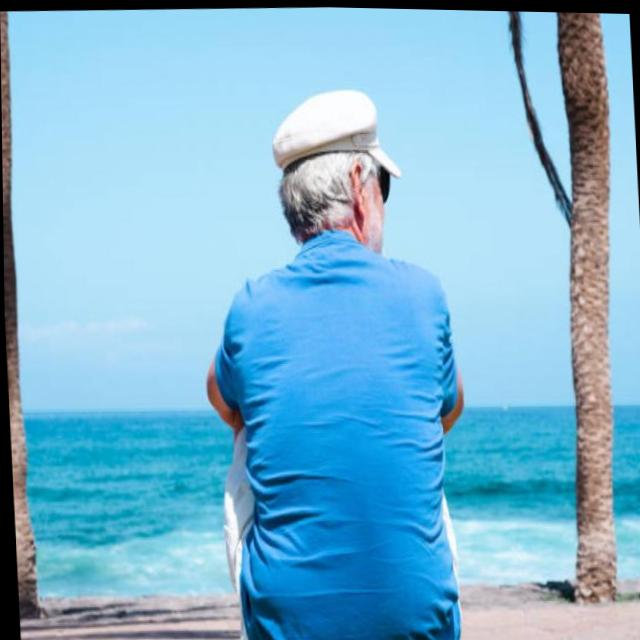no helmet: (264, 77, 399, 257)
